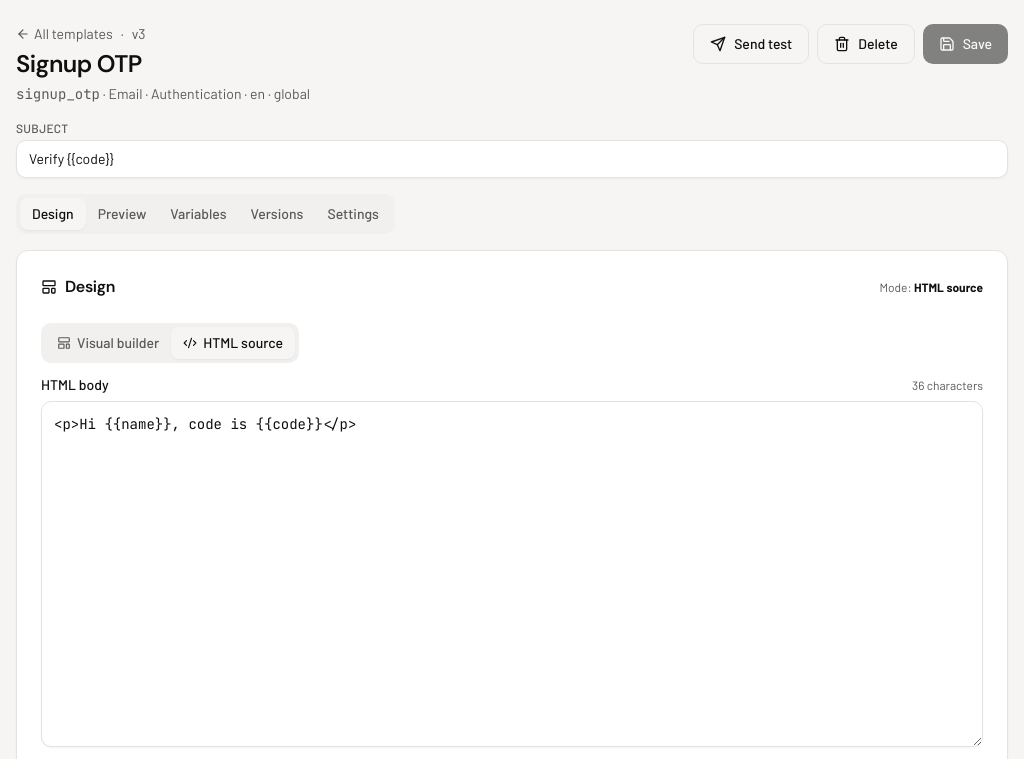
Test: dirty tracking + Save › surfaces a save error as role=alert and toast, keeps draft dirty for retry
Expected: the heading "Signup OTP" is shown, [16, 48, 142, 79]
Type " now" into the field labelled "Subject".
click(512, 159); type(" now")  # box [16, 140, 1008, 178]
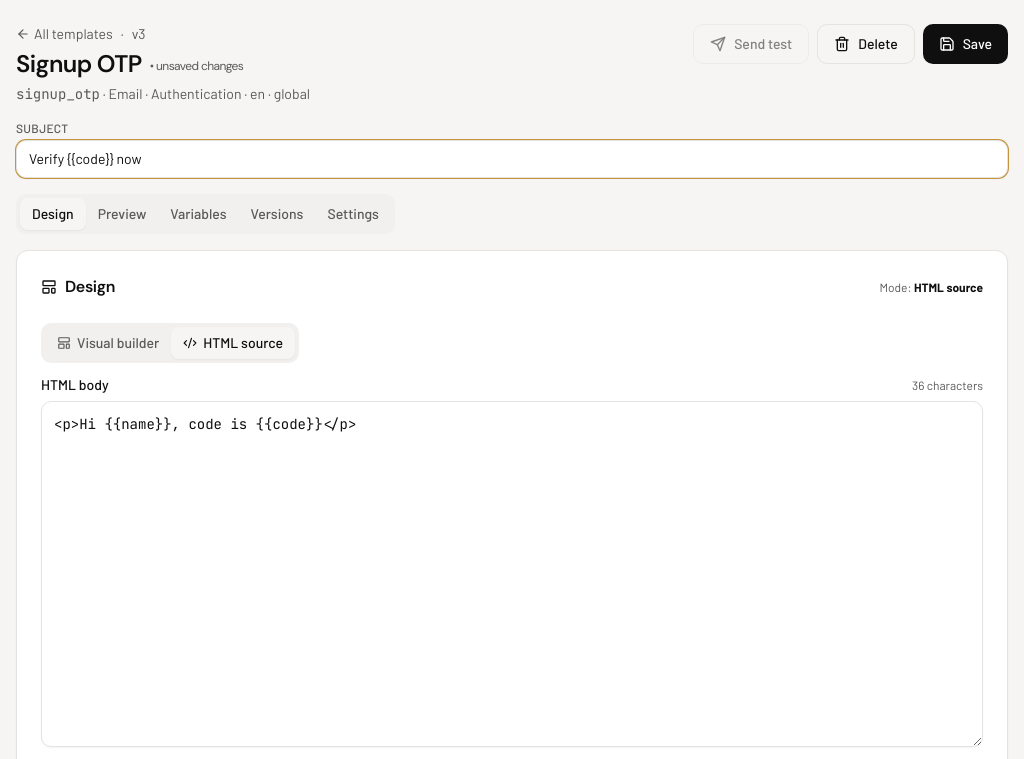
Click the button "Save".
click(965, 44)  # box [923, 24, 1008, 64]
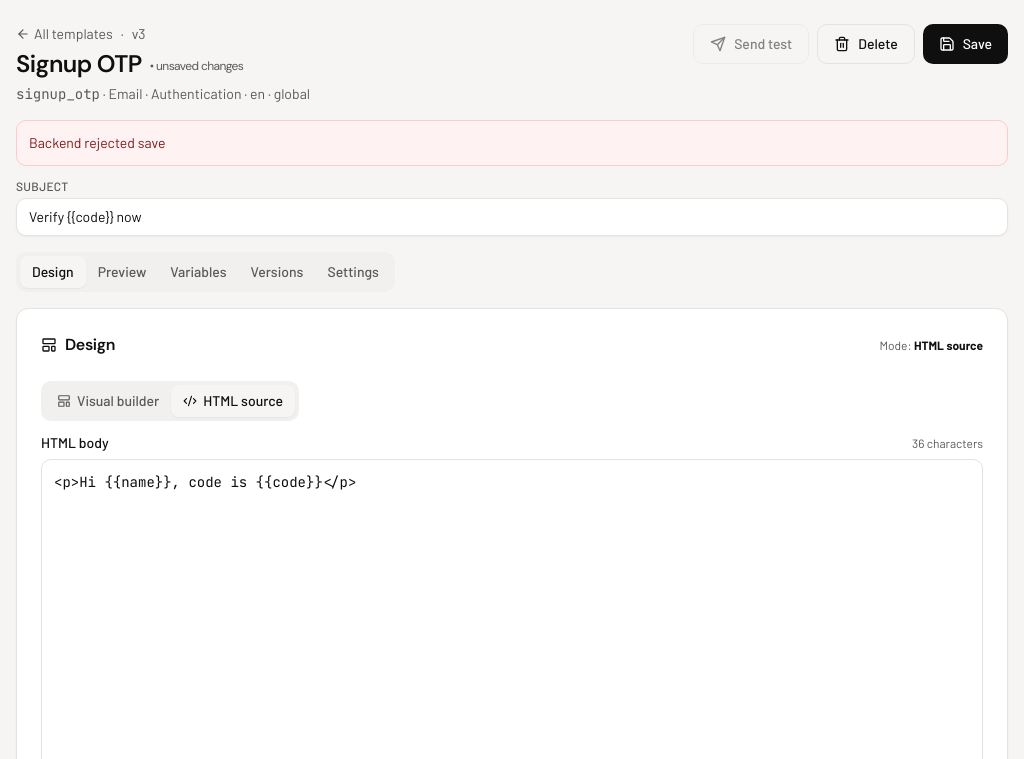
Now the button "Save" is enabled, box [923, 24, 1008, 64]
Now the text "• unsaved changes" is shown, box [150, 58, 243, 74]
Now the message reads "Backend rejected save", box [29, 134, 165, 151]
